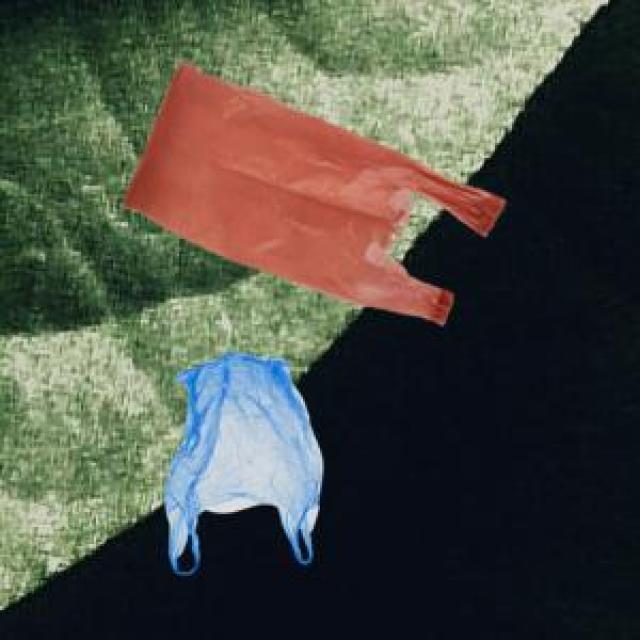waste: (128, 64, 502, 324), (165, 354, 322, 577)
